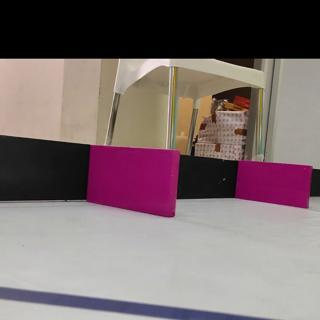xparking: (92, 151, 177, 207), (243, 165, 310, 205)
